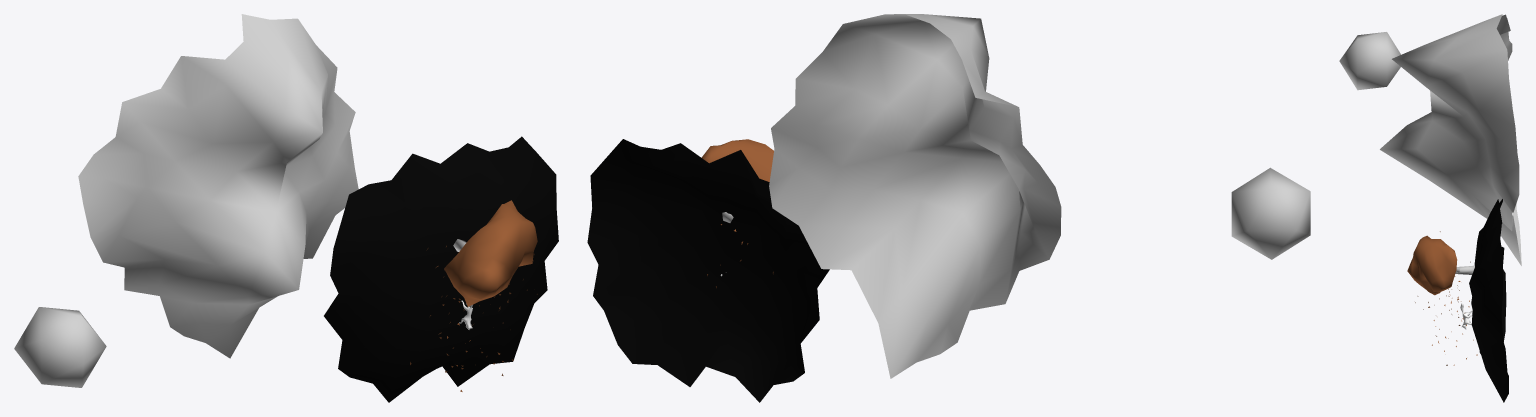
File: fox.obj
3 renders of one model, left to right at view 1: azimuth 30°, elevation 25°; view 2: azimuth 150°, elevation 25°; view 3: azimuth 270°, elevation 25°, orthographic. The views are drawn at different scales.
Visible parts, largest first — view 1: Plane.001, Plane, Icosphere, Icosphere.001; view 2: Plane.001, Plane, Icosphere.001, Icosphere; view 3: Plane.001, Plane, Icosphere.001, Icosphere.
Boxes of the visible parts, x1,y1,x2,y2 form: Plane.001: (78, 14, 358, 358); Plane: (324, 136, 558, 402); Icosphere: (410, 200, 537, 391); Icosphere.001: (14, 307, 106, 387); Plane.001: (769, 14, 1061, 378); Plane: (587, 139, 829, 402); Icosphere.001: (1231, 167, 1310, 259); Icosphere: (701, 139, 773, 288); Plane.001: (1380, 14, 1521, 265); Plane: (1469, 199, 1508, 402); Icosphere.001: (1339, 32, 1400, 90); Icosphere: (1407, 231, 1477, 365).
Bounding box in the file's own units: 92.77 × 60.17 × 32.92.
